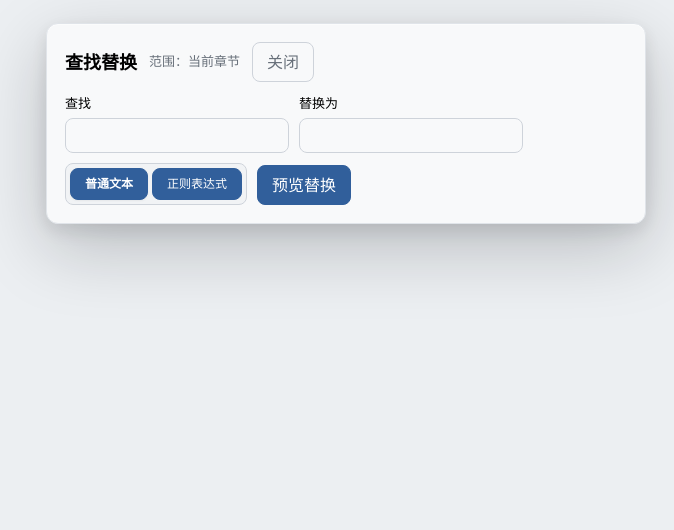
it: ReplacePanel 逐命中排除与替换计划 › 保护快照和 change_log 一致：完成横幅报告命中与场景数并提示保护快照
Type "旧" into the field with test id "replace-find".
click(177, 135); type("旧")  # box [65, 118, 289, 153]
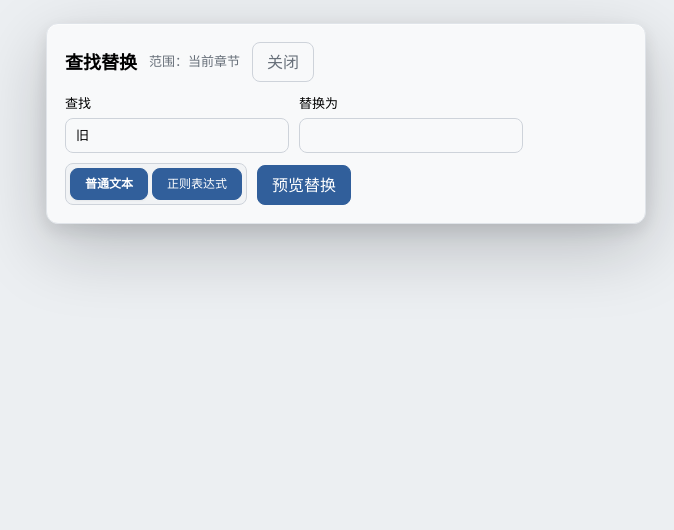
Click the button with test id "replace-preview".
click(304, 185)  # box [257, 165, 351, 205]
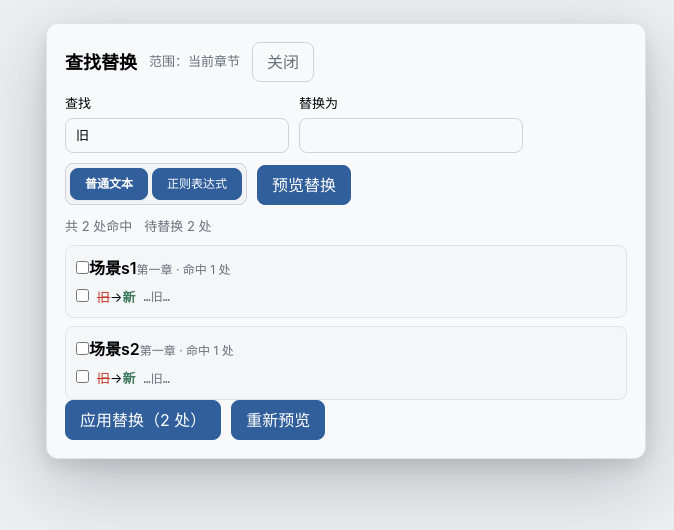
Check: the element with test id "replace-plan-view" is shown, box [65, 217, 627, 400]
Click the button with test id "replace-apply".
click(143, 420)  # box [65, 400, 221, 440]
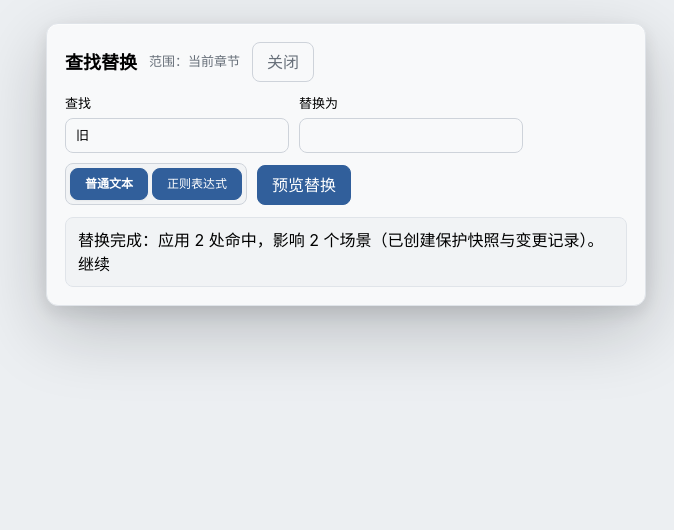
Check: the element with test id "replace-done-banner" shows "应用 2 处命中", box [65, 217, 627, 287]
Check: the element with test id "replace-done-banner" shows "影响 2 个场景", box [65, 217, 627, 287]
Check: the element with test id "replace-done-banner" shows "保护快照", box [319, 230, 604, 250]
